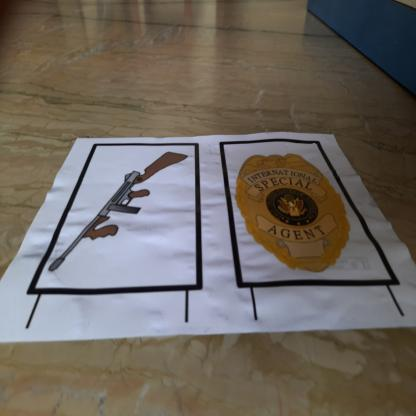Bootlegger: (46, 150, 192, 280)
G-man: (231, 148, 354, 280)
